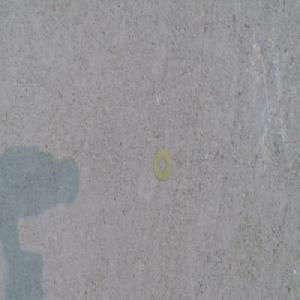Washer: (152, 149, 173, 183)
